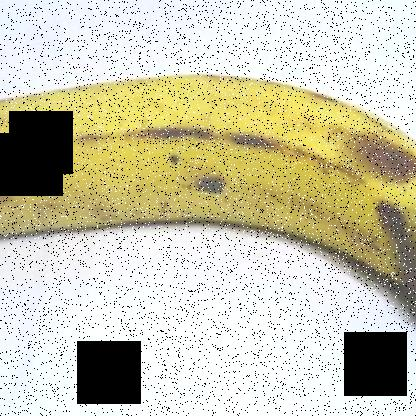ripe: (1, 60, 415, 327)
